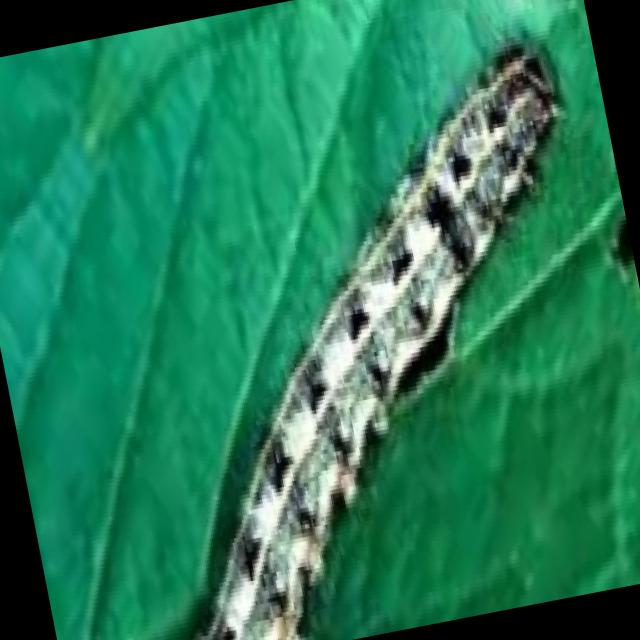Armyworm: (66, 53, 640, 640)
